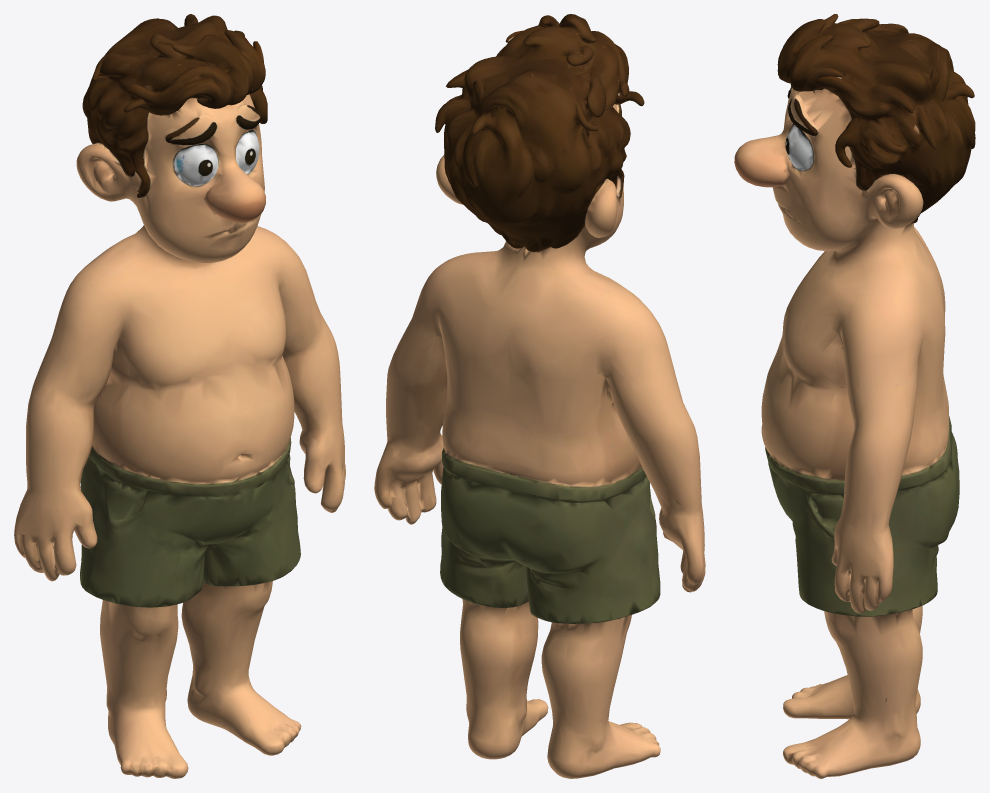
Rendered from patient.glb.
3 views of the same model, side by side, from view 1: azimuth 30°, elevation 25°; view 2: azimuth 150°, elevation 25°; view 3: azimuth 270°, elevation 25° (orthographic).
Size of the model in its own units: 0.9036 by 1.9 by 0.5768.
1 material, 1 textured.
